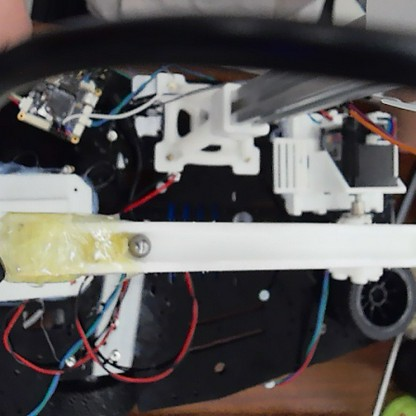ironball: (123, 227, 154, 259)
